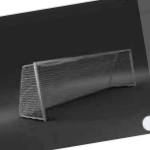goals: (18, 48, 137, 123)
